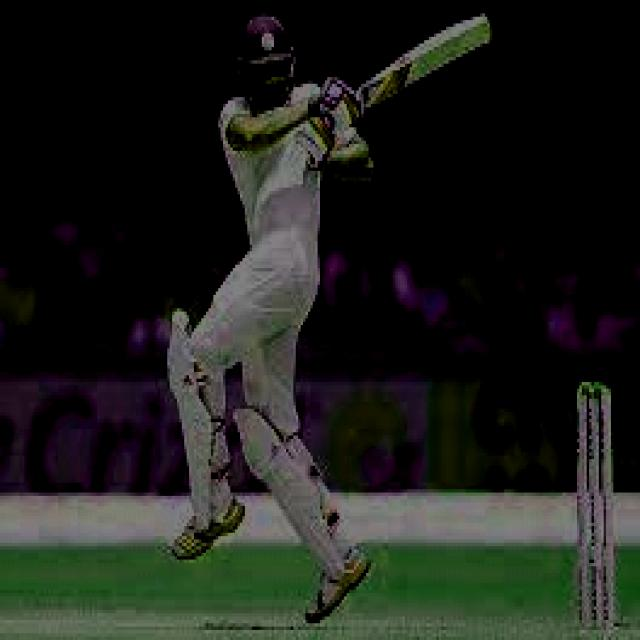toe: (476, 10, 492, 54)
